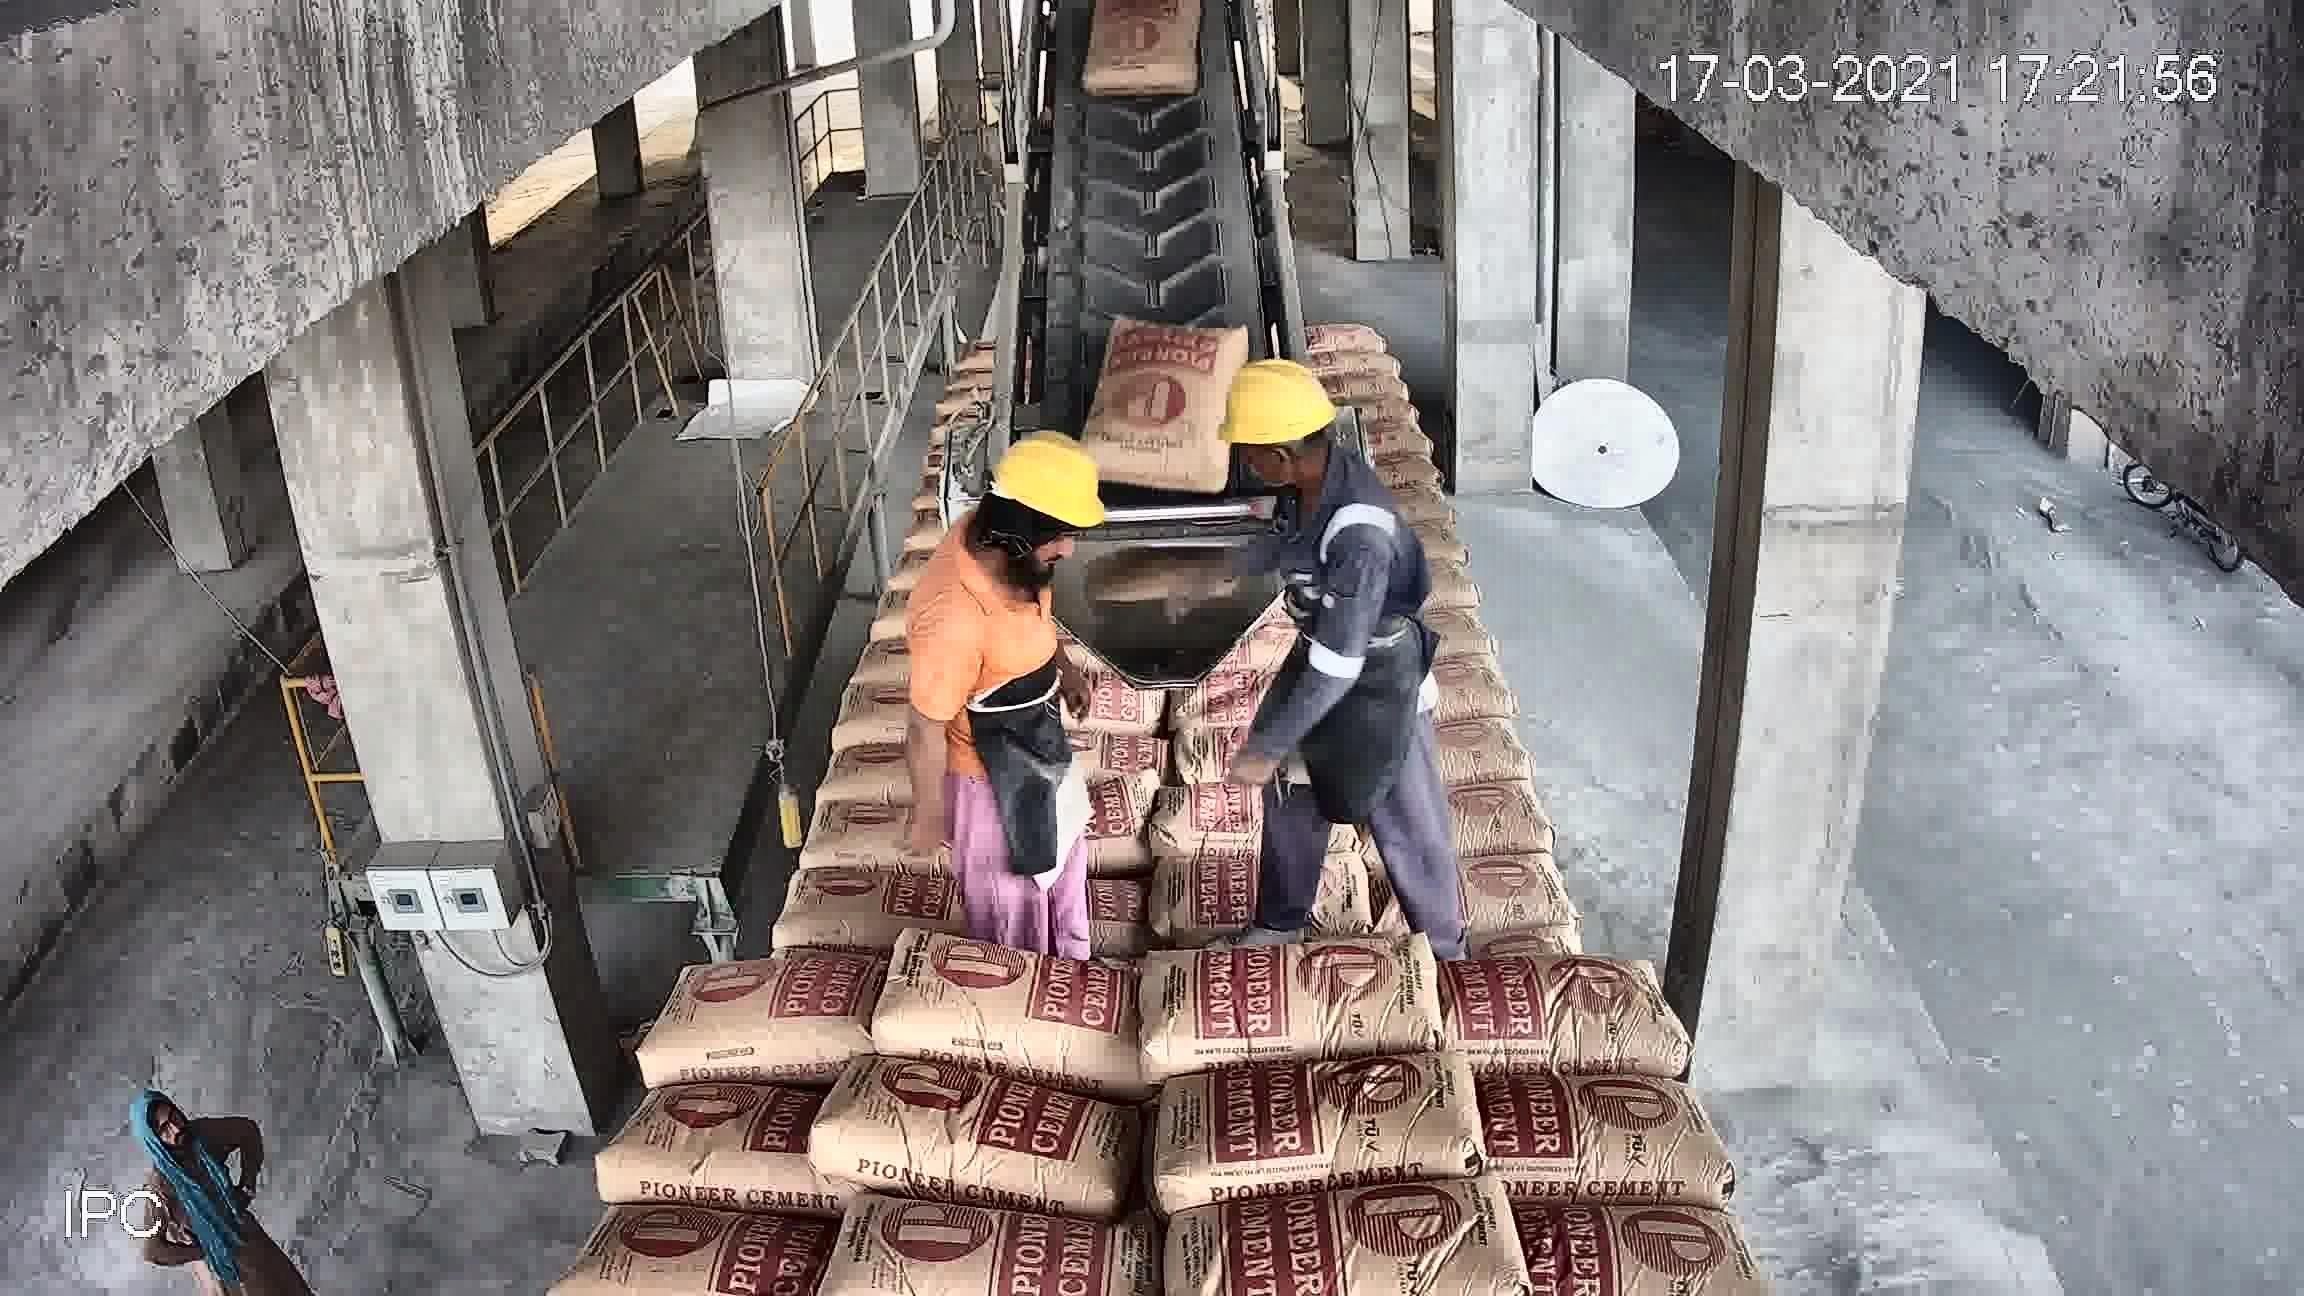bag_h: (802, 1076, 1157, 1215), (1135, 1168, 1513, 1296), (1173, 1040, 1484, 1180), (1120, 937, 1448, 1067), (885, 949, 1166, 1081), (1135, 824, 1424, 949), (631, 946, 870, 1084), (1155, 711, 1393, 845), (590, 1079, 813, 1217), (886, 840, 1127, 964), (915, 728, 1149, 845), (1418, 965, 1679, 1059), (1494, 1074, 1725, 1171), (548, 1199, 799, 1287), (834, 1222, 1139, 1285), (1530, 1201, 1764, 1283), (661, 870, 877, 959), (1435, 864, 1644, 948), (1397, 767, 1593, 856), (718, 779, 892, 870), (1014, 658, 1158, 734), (1173, 668, 1313, 741), (1187, 560, 1321, 625), (896, 502, 1054, 555), (1010, 578, 1184, 623), (1160, 620, 1317, 669), (1014, 623, 1166, 669), (1184, 521, 1321, 570), (904, 465, 1017, 521), (1036, 729, 1180, 764), (1032, 548, 1185, 579), (918, 548, 1036, 581)
belt: (1013, 0, 1301, 517)
